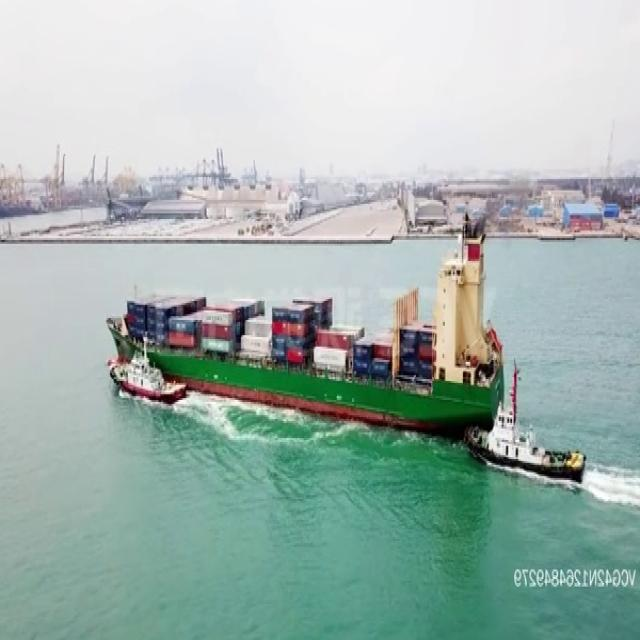cargoship: (115, 222, 499, 414)
houseboat: (470, 371, 583, 478), (104, 339, 188, 407)
